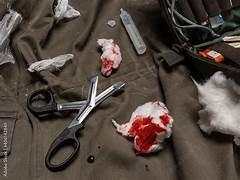Syringe: (120, 8, 145, 54)
cotton: (0, 0, 239, 179), (195, 72, 239, 144), (112, 101, 172, 153), (120, 8, 146, 54), (0, 10, 21, 64), (97, 39, 121, 76), (28, 54, 73, 71), (0, 10, 21, 45), (211, 42, 239, 64), (54, 0, 80, 21), (177, 0, 196, 21), (0, 39, 14, 64), (199, 49, 224, 62), (54, 0, 67, 20), (64, 4, 80, 18), (218, 0, 234, 11), (204, 3, 220, 12), (223, 35, 239, 42), (7, 0, 15, 8), (107, 20, 115, 27), (228, 42, 239, 47), (234, 136, 239, 145)
